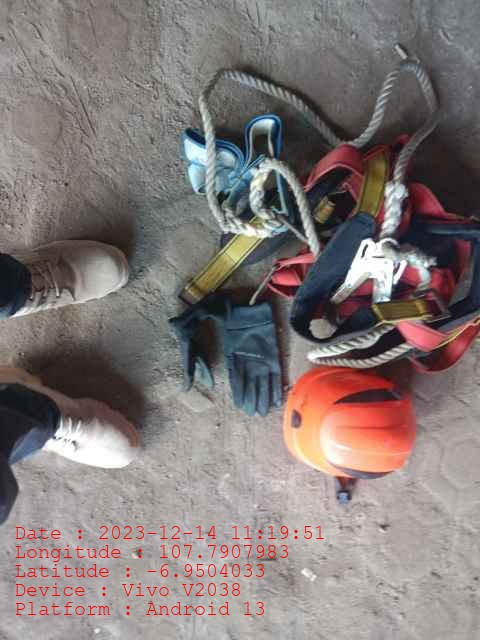HELM: (282, 365, 417, 479)
SARUNG_TANGAN: (221, 302, 285, 416)
